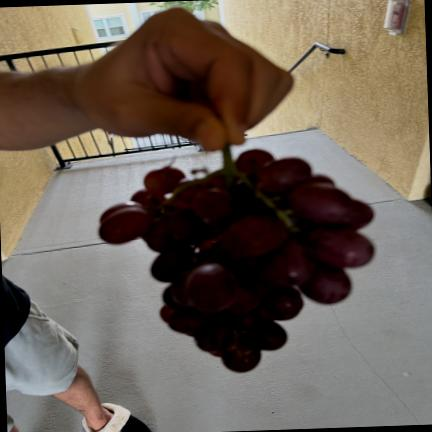grape_cluster: (99, 148, 373, 372)
